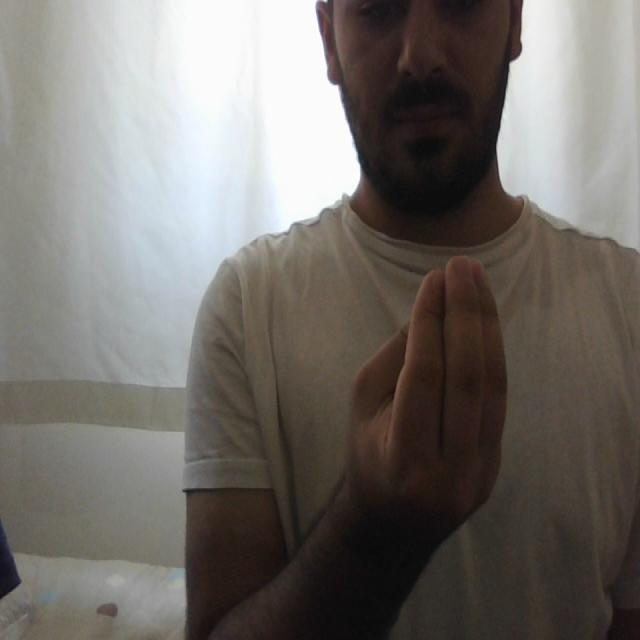iyi: (350, 248, 510, 525)
